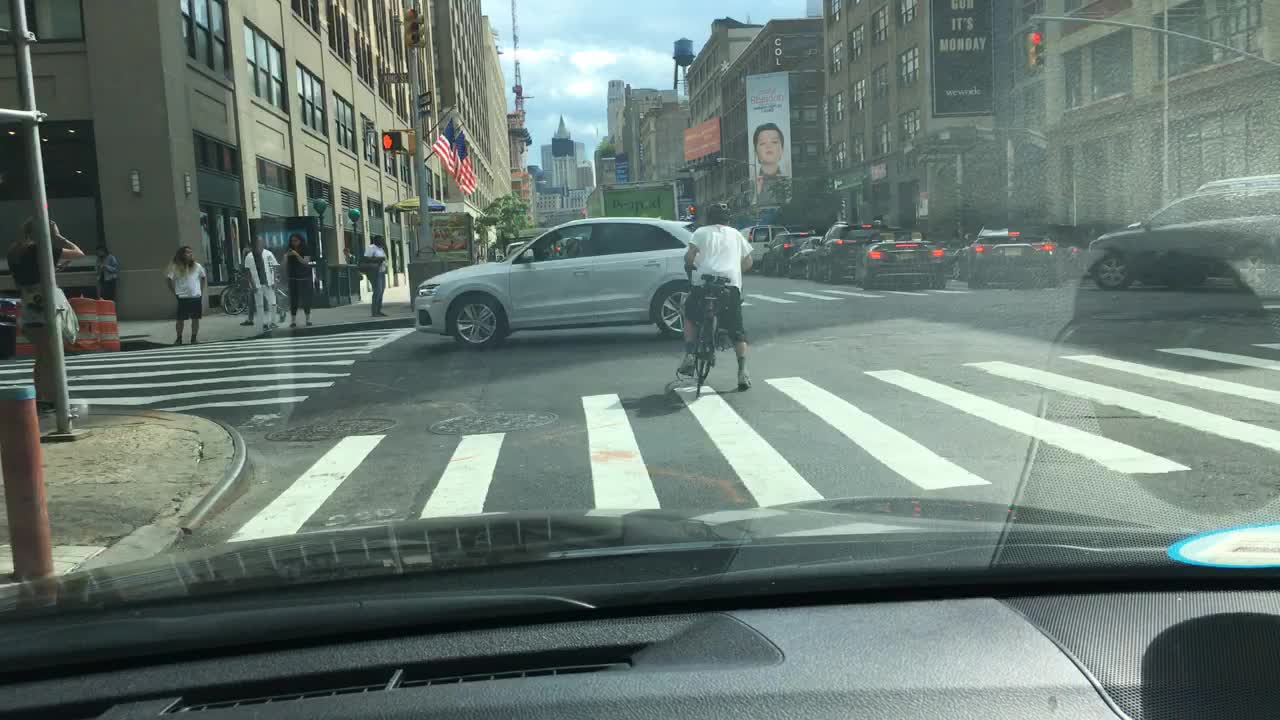bike: (678, 262, 737, 400), (216, 277, 290, 316), (224, 285, 286, 315)
car: (415, 215, 742, 349), (1086, 192, 1279, 291), (965, 223, 1064, 291), (853, 228, 947, 290), (809, 217, 891, 285), (1060, 221, 1123, 273), (737, 222, 790, 270), (760, 228, 814, 275), (1193, 170, 1278, 197), (788, 233, 826, 276), (949, 230, 979, 278), (936, 235, 961, 268)
person: (5, 216, 86, 416), (164, 243, 206, 346), (241, 232, 280, 337), (281, 231, 315, 328), (361, 232, 391, 316), (91, 243, 121, 316), (239, 238, 261, 326), (341, 243, 358, 267)
rider: (674, 199, 754, 389)
traffic light: (379, 128, 419, 152), (403, 8, 425, 46), (1026, 33, 1044, 68), (688, 204, 697, 216)
traffic sign: (379, 71, 411, 84), (417, 89, 434, 107), (523, 213, 535, 224)
truck: (581, 181, 682, 220)
